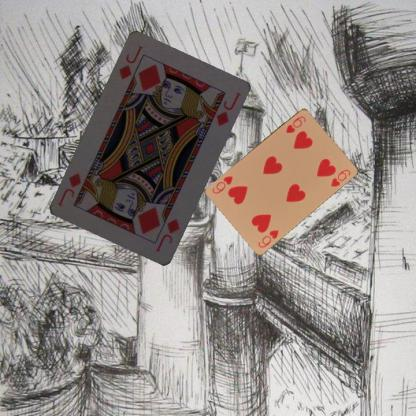6h: (255, 227, 280, 249), (283, 113, 307, 134)
Jd: (116, 43, 145, 82), (153, 216, 182, 254)
